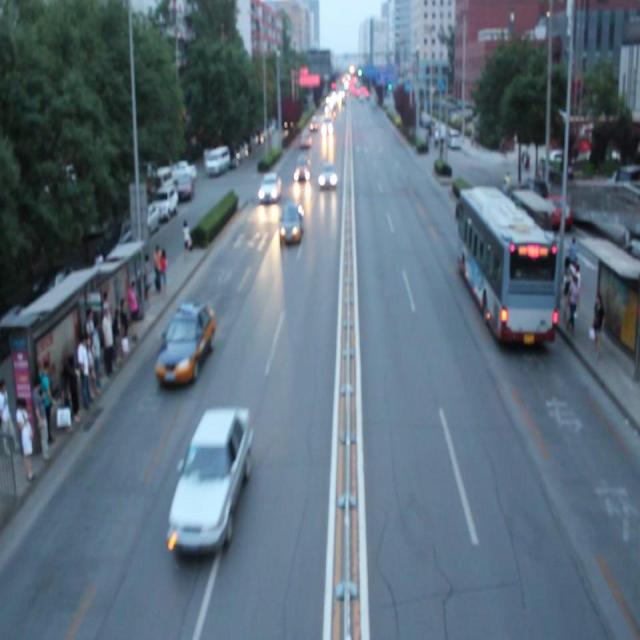car: (174, 403, 251, 559), (163, 296, 216, 388), (276, 203, 304, 249), (257, 166, 281, 206), (316, 159, 338, 193), (292, 152, 312, 185)
van: (456, 182, 556, 350)
